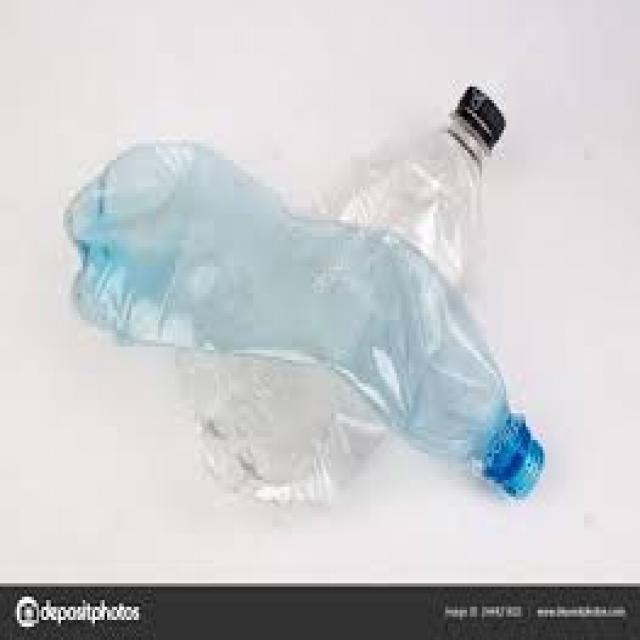Plastic: (66, 140, 544, 498), (170, 84, 507, 507)
